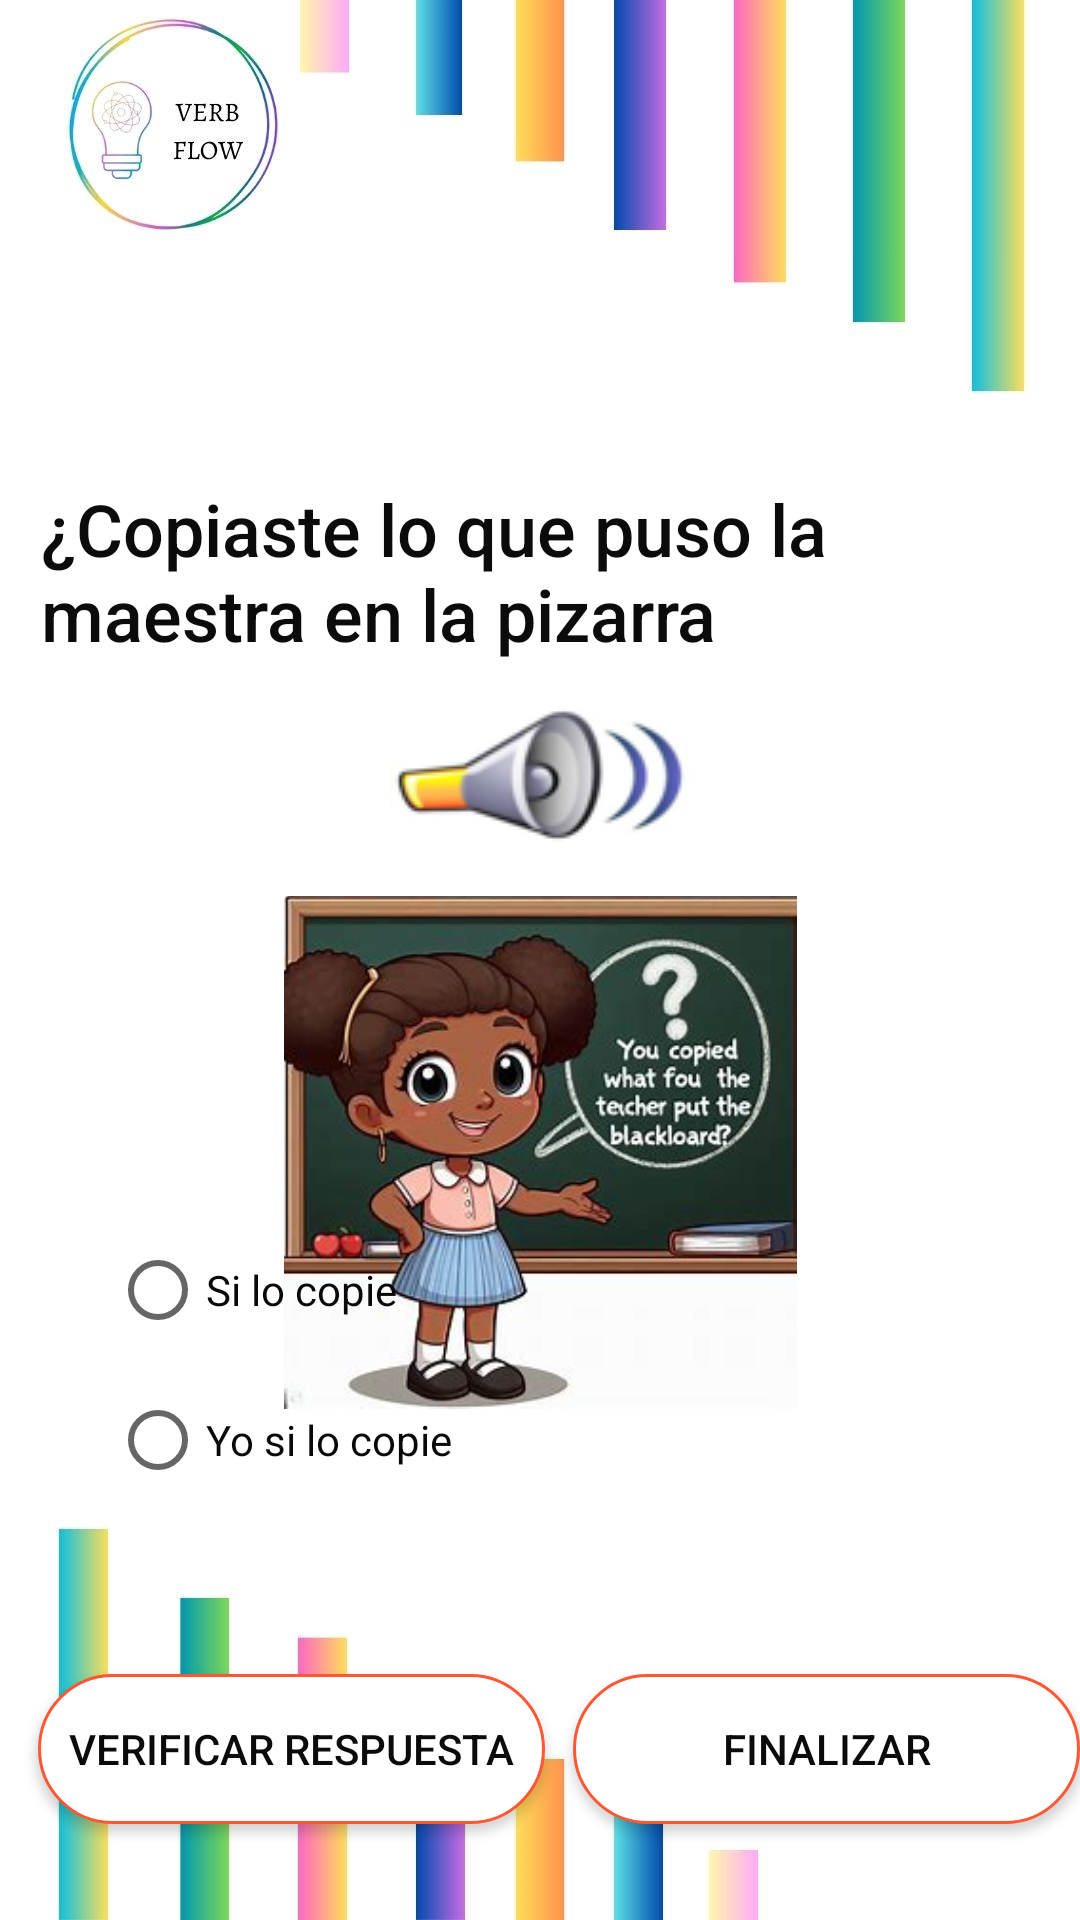

Icon bounding boxes for this 1080w x 1920h phone screenshot, format Rect(x1, y1, x2, y2):
altavoz: Rect(397, 711, 682, 839)
